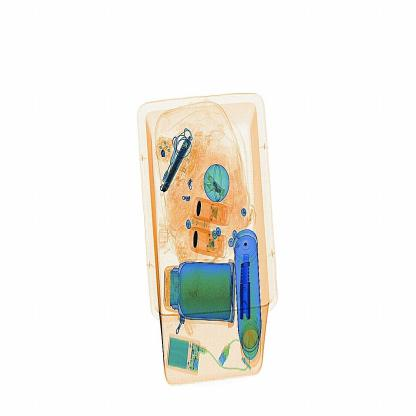pliers: (241, 252, 258, 321)
